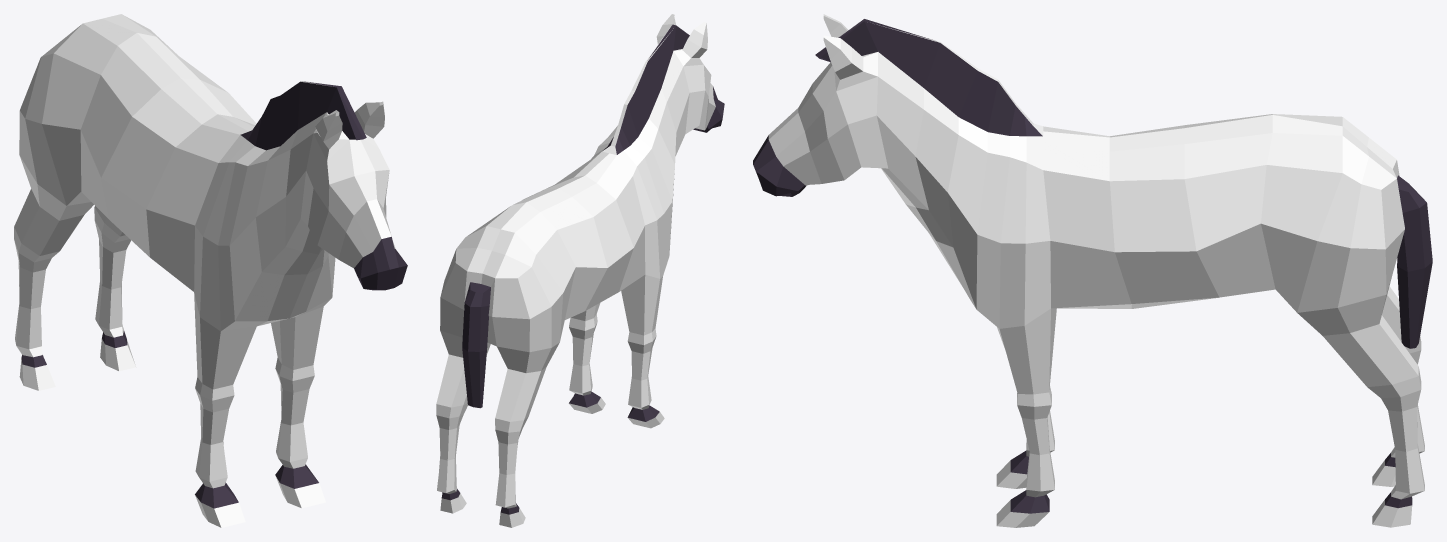
File: Zebra.fbx
3 views of the same model, side by side, from view 1: azimuth 30°, elevation 25°; view 2: azimuth 150°, elevation 25°; view 3: azimuth 270°, elevation 25° (orthographic). The views are drawn at different scales.
Visible parts, largest first — view 1: Zebra.001; view 2: Zebra.001; view 3: Zebra.001.
Part boxes in pixels (left/top/right/bottom): Zebra.001: left=14, top=14, right=407, bottom=527; Zebra.001: left=436, top=14, right=724, bottom=527; Zebra.001: left=753, top=14, right=1432, bottom=527.
Size of the model in its own units: 0.7376 by 2.28 by 2.93.
